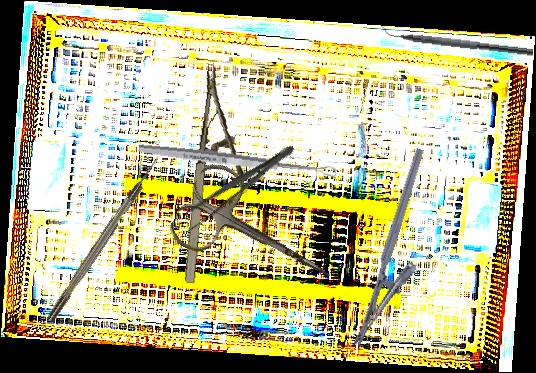Chopper: (377, 21, 535, 57)
Dressing Forceps: (176, 138, 300, 236)
Hook Surgical: (44, 154, 164, 323)
Iris Scissors: (164, 155, 352, 318)
Needle Holder: (351, 147, 453, 356), (177, 62, 261, 289)
Surgical Spoon: (137, 141, 338, 180)
